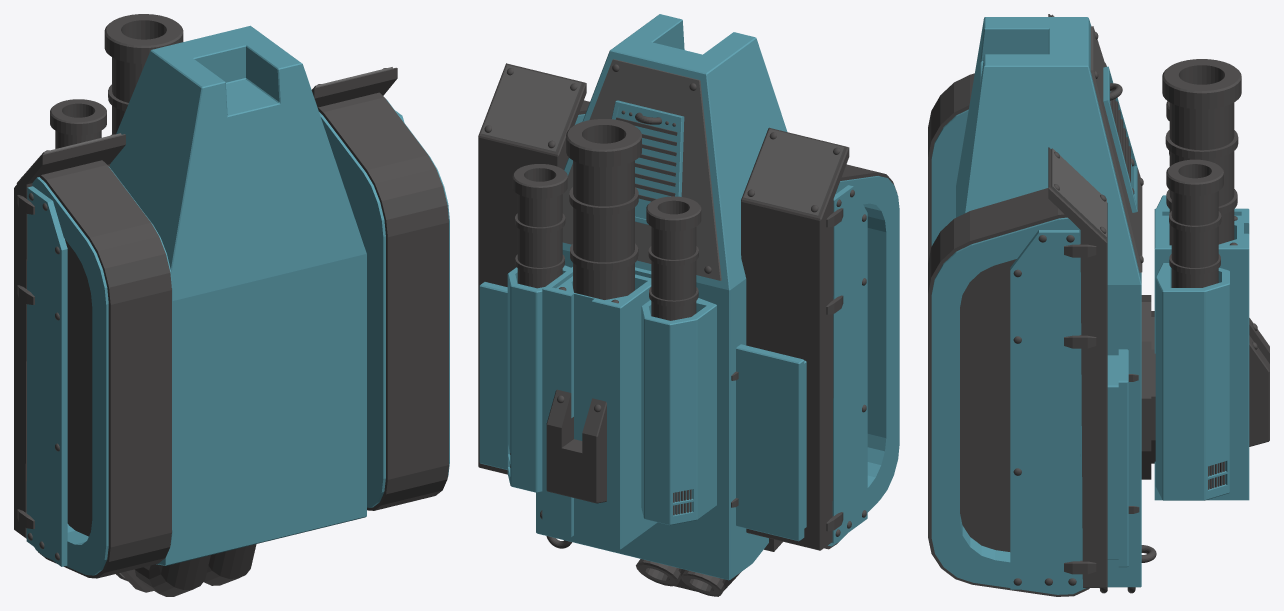
Rendered from TankProt.fbx.
3 views of the same model, side by side, from view 1: azimuth 30°, elevation 25°; view 2: azimuth 150°, elevation 25°; view 3: azimuth 270°, elevation 25° (orthographic). The views are drawn at different scales.
Visible parts, largest first — view 1: Cube.053; view 2: Cube.053; view 3: Cube.053.
Boxes of the visible parts, x1,y1,x2,y2 form: Cube.053: [14, 14, 449, 596]; Cube.053: [478, 14, 899, 596]; Cube.053: [928, 14, 1269, 596].
Bounding box in the file's own units: 361 × 511 × 292.
